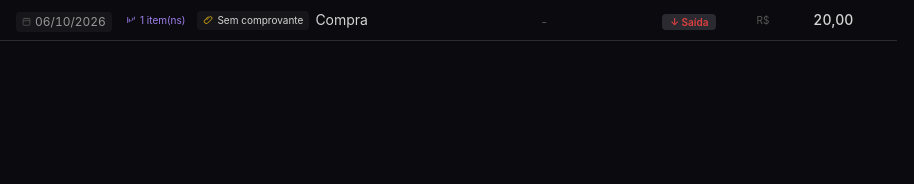
TransactionRow › keeps existing details closed until requested
expect the field showing "Item detalhado" is not shown: met
Step 1. Click the button "1 item(ns)" → coordinates (156, 20), box [120, 10, 191, 30]
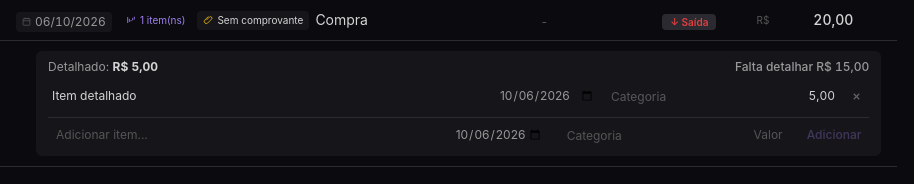
expect the field showing "Item detalhado" below "Detalhado:" is shown: met, box [48, 84, 487, 108]
